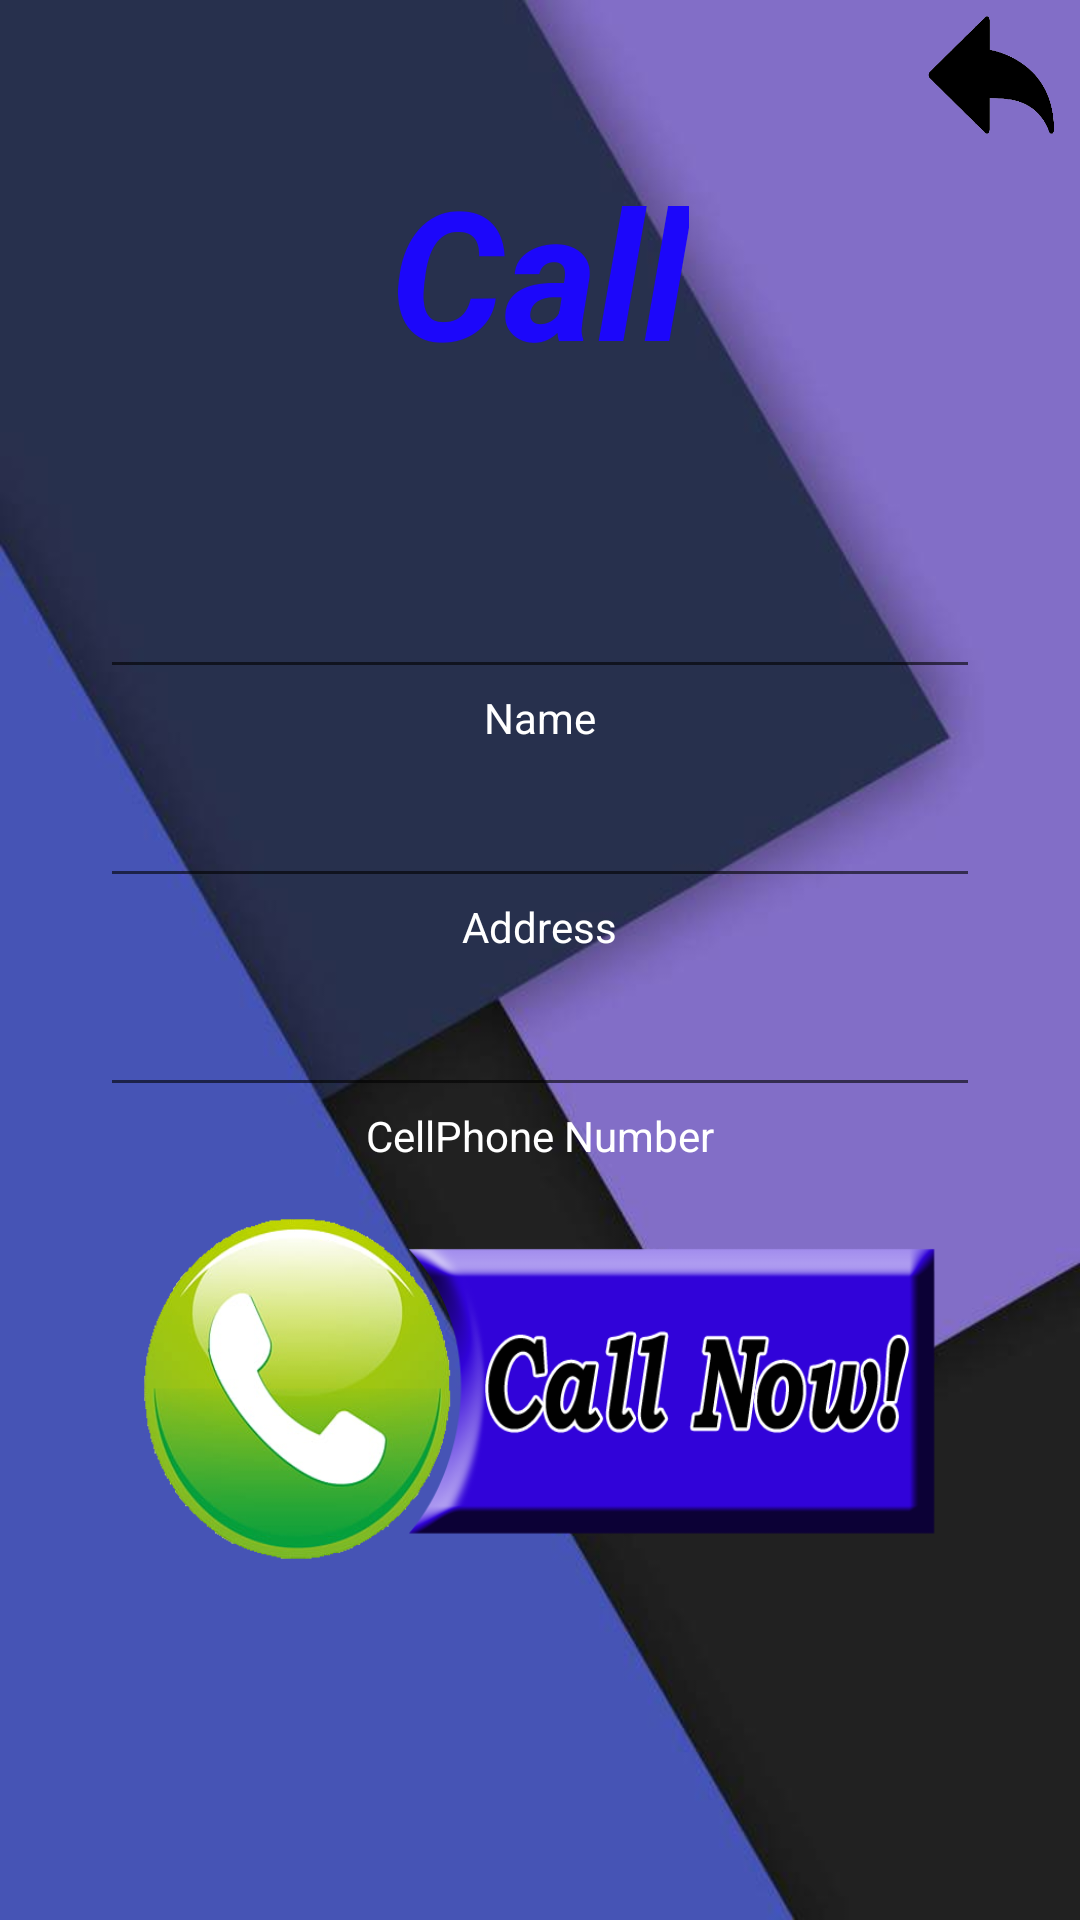

Where icons sit on this 1080px x 1920px app screen, as (x1, y1, x2, y2):
back arrow: (928, 16, 1054, 134)
